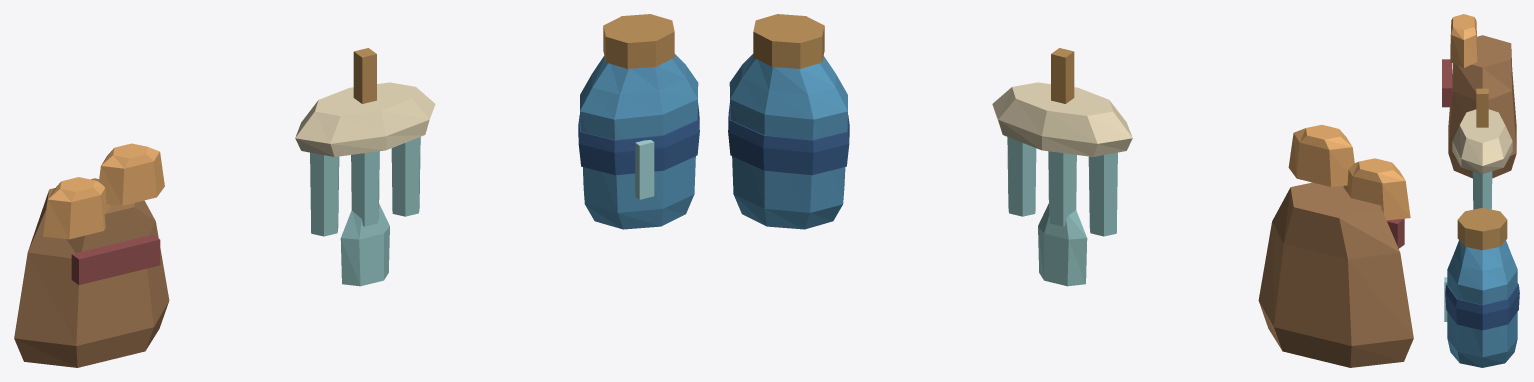
File: columbina-detour-gifts-model.obj
3 renders of one model, left to right at view 1: azimuth 30°, elevation 25°; view 2: azimuth 150°, elevation 25°; view 3: azimuth 270°, elevation 25°, orthographic. The views are drawn at different scales.
Visible parts, largest first — view 1: CoastalGiftTrio; view 2: CoastalGiftTrio; view 3: CoastalGiftTrio.
Boxes of the visible parts, bbox=[...] form: CoastalGiftTrio: bbox=[14, 14, 699, 367]; CoastalGiftTrio: bbox=[728, 14, 1413, 367]; CoastalGiftTrio: bbox=[1442, 14, 1519, 367].
Size of the model in its own units: 5.56 by 1.75 by 0.75.
